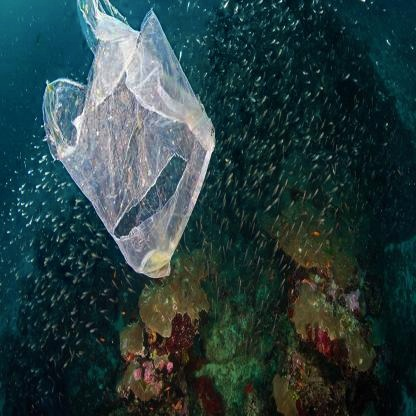pbag: (38, 2, 220, 284)
